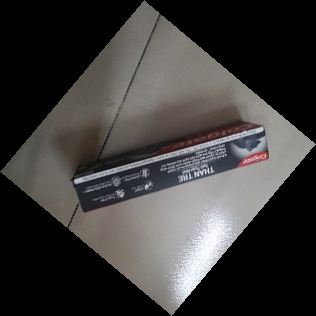Colgate Than: (70, 120, 269, 213)
